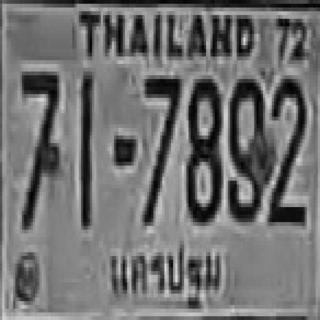N01: (79, 72, 90, 226)
N02: (267, 74, 305, 224)
N07: (18, 68, 58, 226), (142, 72, 180, 222)
N08: (184, 73, 219, 220)
N09: (226, 75, 265, 218)
P28: (106, 237, 224, 312)
